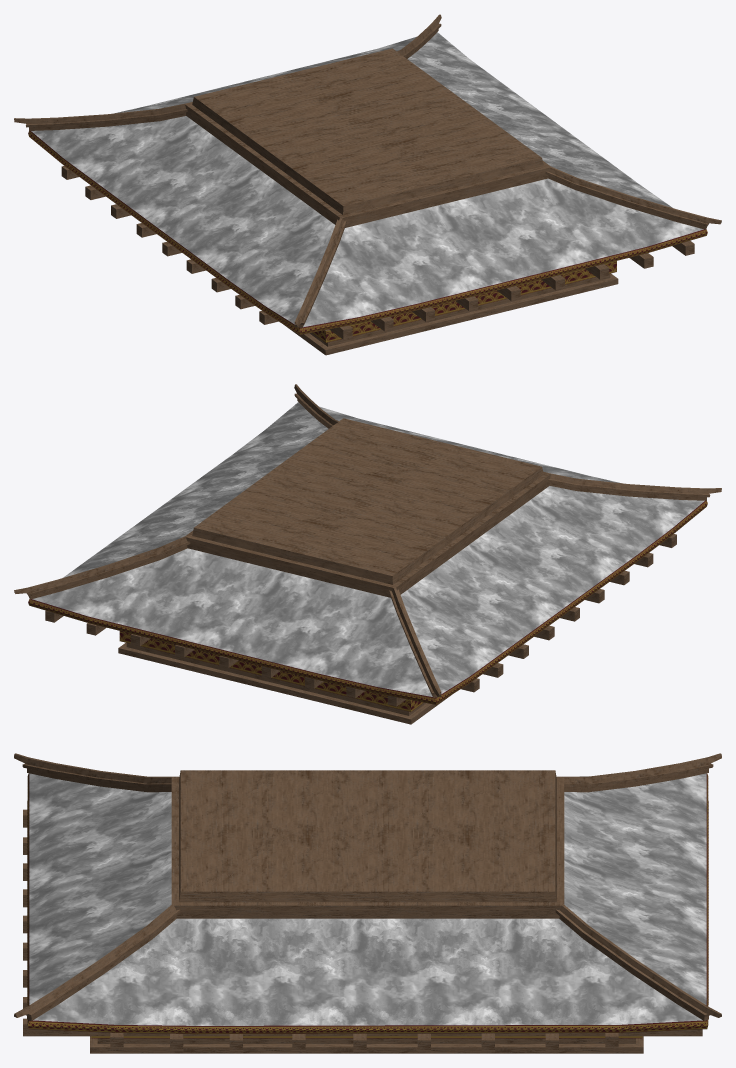
Rendered from SM_roof_temple_02.fbx.
The picture shows the model from 3 angles, top to bottom: view 1: azimuth 30°, elevation 25°; view 2: azimuth 150°, elevation 25°; view 3: azimuth 270°, elevation 25°; orthographic projection. The views are drawn at different scales.
Visible parts, largest first — view 1: SM_roof_temple_02; view 2: SM_roof_temple_02; view 3: SM_roof_temple_02.
Part boxes in pixels (bbox=[...]): SM_roof_temple_02: bbox=[14, 14, 721, 355]; SM_roof_temple_02: bbox=[14, 384, 721, 724]; SM_roof_temple_02: bbox=[14, 753, 721, 1053].
Bounding box in the file's own units: 1556 × 1783 × 382.
Materials: 4 (4 with a texture image).
